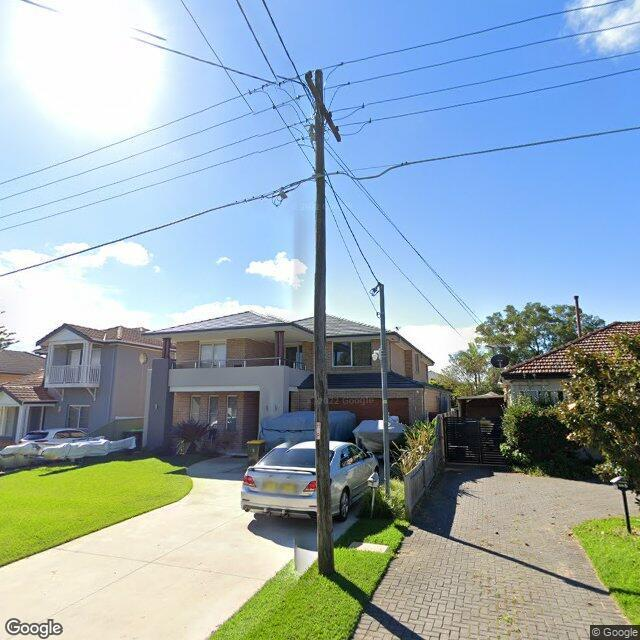crossarm: (305, 70, 342, 144)
steel-pole: (378, 282, 391, 500)
timber-pole: (314, 70, 335, 575)
